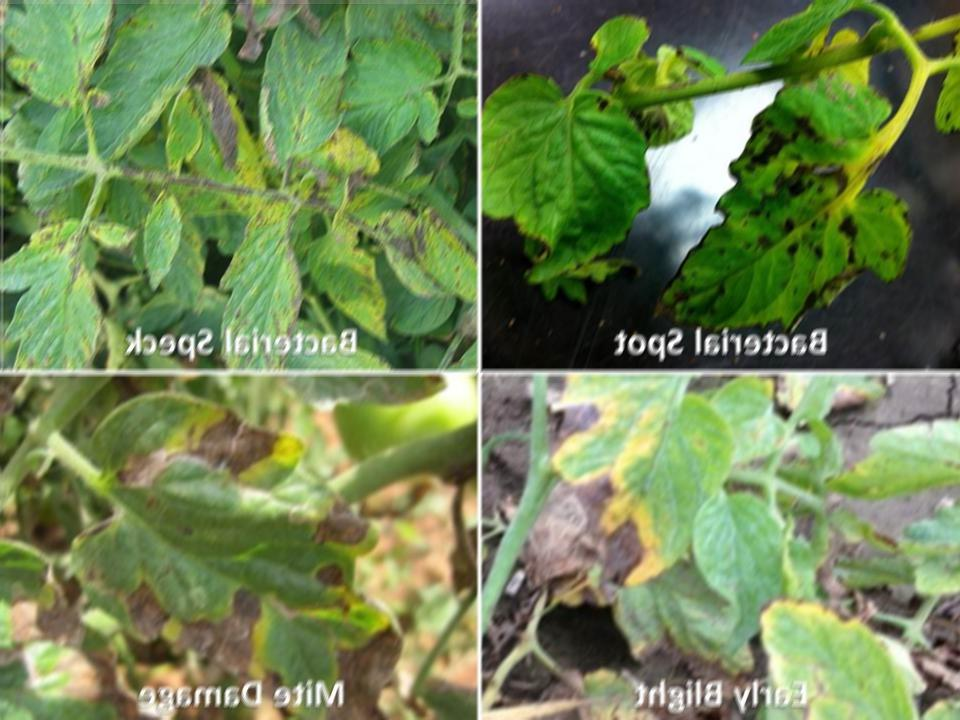Tomato Early blight leaf: (534, 385, 915, 715)
Tomato leaf bacterial spot: (658, 83, 915, 351), (482, 81, 677, 312), (31, 5, 227, 207), (0, 209, 142, 362), (247, 5, 361, 183), (211, 177, 318, 365), (122, 170, 193, 287), (157, 77, 208, 168)
